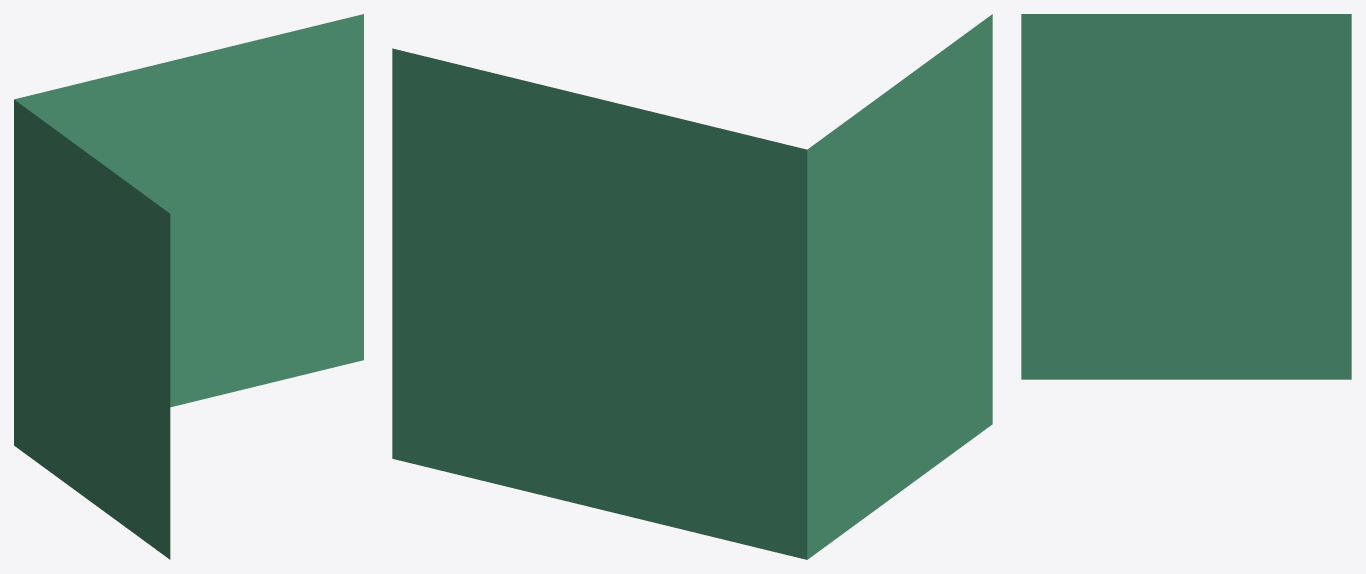
Rendered from DR_Wall_1.fbx.
3 views of the same model, side by side, from view 1: azimuth 30°, elevation 25°; view 2: azimuth 150°, elevation 25°; view 3: azimuth 270°, elevation 25° (orthographic). The views are drawn at different scales.
Parts seen in each view (by area): view 1: DR_Wall; view 2: DR_Wall; view 3: DR_Wall.
Boxes of the visible parts, x1,y1,x2,y2 form: DR_Wall: (14, 14, 363, 559); DR_Wall: (392, 14, 992, 559); DR_Wall: (1021, 14, 1351, 379).
Size of the model in its own units: 2280 by 2155 by 1764.
